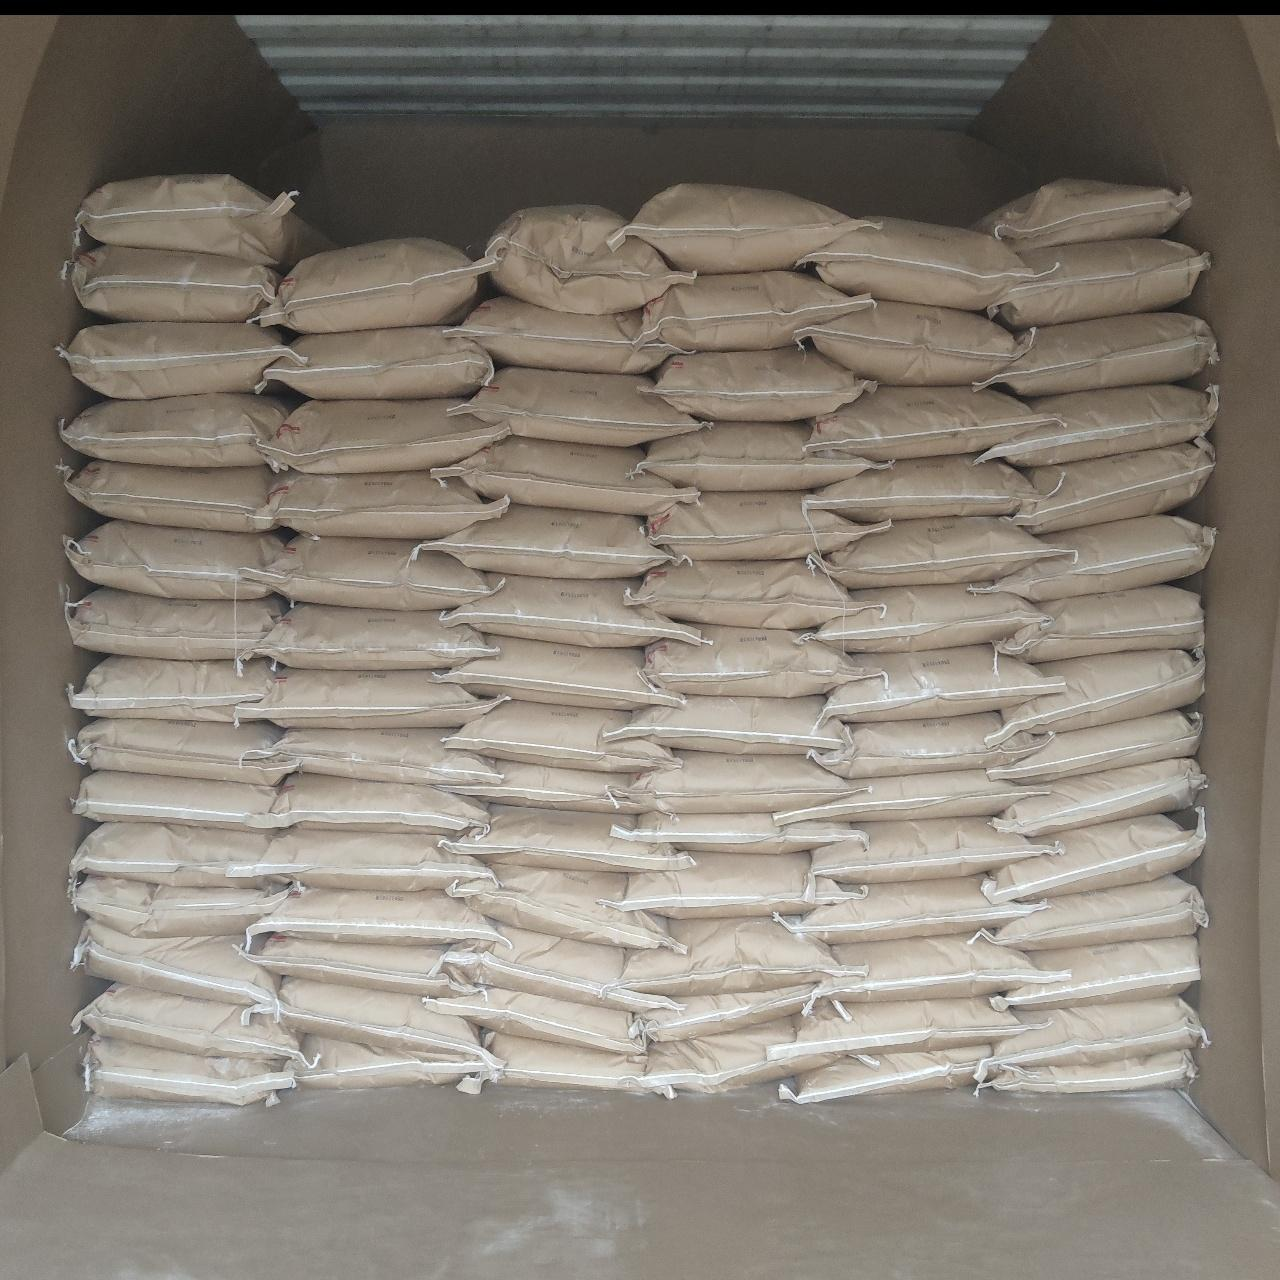sack: (481, 204, 692, 309), (76, 176, 322, 266), (614, 186, 870, 270), (258, 238, 482, 332), (799, 220, 1034, 309), (433, 438, 696, 515), (980, 312, 1218, 396), (72, 920, 278, 1016), (448, 864, 682, 948), (450, 368, 704, 445), (983, 813, 1204, 903), (448, 924, 674, 1010), (976, 516, 1214, 598), (629, 1015, 881, 1092), (978, 384, 1214, 467), (988, 238, 1208, 326), (992, 651, 1201, 742), (1010, 442, 1214, 535), (280, 978, 488, 1068), (806, 934, 1048, 1012), (618, 918, 862, 994), (416, 504, 678, 574), (640, 272, 870, 350), (442, 576, 696, 646), (434, 636, 680, 708), (808, 386, 1046, 459), (802, 302, 1022, 382), (244, 536, 493, 606), (60, 322, 290, 399), (983, 998, 1206, 1076), (74, 983, 302, 1060), (779, 876, 1040, 942), (810, 518, 1064, 586), (444, 298, 676, 372), (826, 646, 1062, 719), (974, 876, 1204, 949), (266, 400, 504, 470), (440, 804, 692, 870), (64, 520, 278, 598), (646, 346, 869, 420), (263, 328, 492, 399), (994, 760, 1204, 836), (810, 818, 1062, 881), (608, 852, 860, 915), (646, 626, 880, 694), (646, 492, 888, 558), (448, 702, 674, 772), (628, 560, 860, 628), (248, 604, 492, 668), (638, 422, 881, 486), (996, 586, 1201, 662), (240, 932, 477, 998), (60, 394, 288, 462), (804, 586, 1044, 651), (236, 668, 502, 726), (250, 886, 504, 946), (804, 456, 1040, 520), (986, 710, 1198, 782), (978, 181, 1190, 252), (66, 459, 274, 532), (808, 712, 1042, 776), (270, 472, 506, 536), (254, 826, 493, 888), (70, 246, 278, 318), (66, 588, 284, 656), (994, 937, 1198, 1008), (792, 998, 1030, 1058), (424, 988, 644, 1054), (626, 750, 855, 812), (68, 719, 292, 782), (776, 770, 1046, 822), (84, 1036, 294, 1102), (74, 876, 300, 934), (250, 728, 493, 782), (272, 772, 486, 832), (70, 824, 268, 888), (612, 696, 846, 750), (70, 656, 270, 719), (778, 1046, 988, 1102), (457, 1032, 646, 1092), (74, 772, 278, 828), (440, 760, 648, 812), (293, 1035, 484, 1087), (614, 813, 866, 852), (632, 986, 816, 1039), (982, 1049, 1197, 1092)
